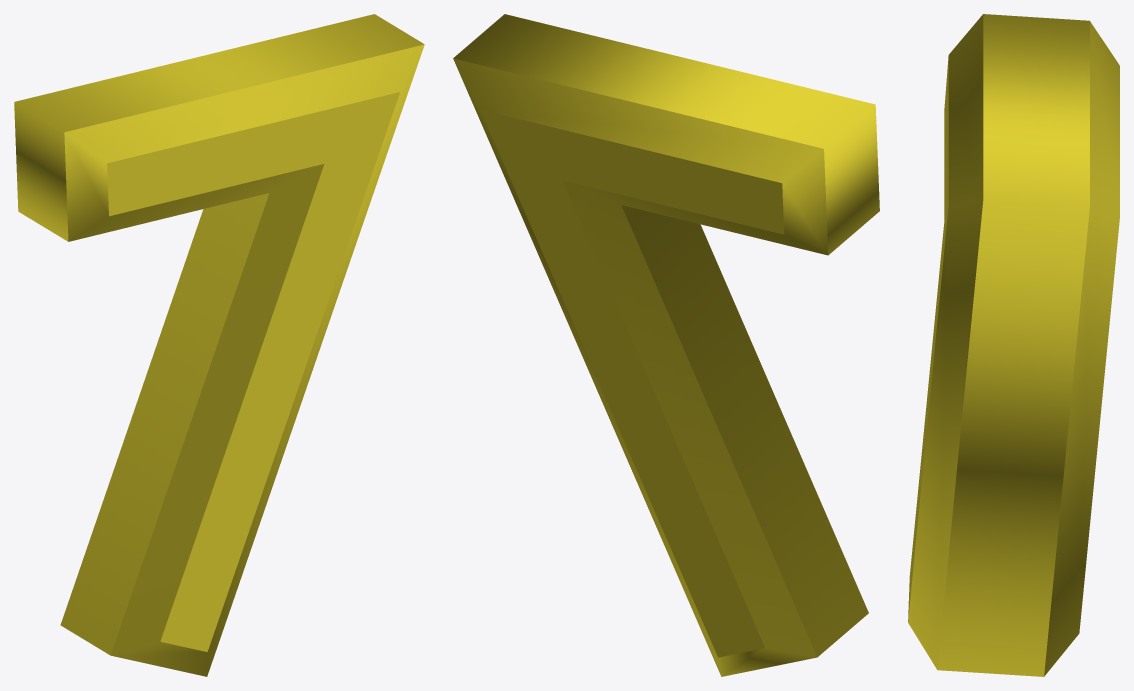
Rendered from SET.fbx.
3 renders of one model, left to right at view 1: azimuth 30°, elevation 25°; view 2: azimuth 150°, elevation 25°; view 3: azimuth 270°, elevation 25°, orthographic. The views are drawn at different scales.
Visible parts, largest first — view 1: Text; view 2: Text; view 3: Text.
Boxes of the visible parts, box(x1,y1,x2,y2) form: Text: box(14, 14, 424, 676); Text: box(453, 14, 879, 676); Text: box(908, 14, 1119, 676).
Size of the model in its own units: 50.46 by 75.55 by 24.18.
